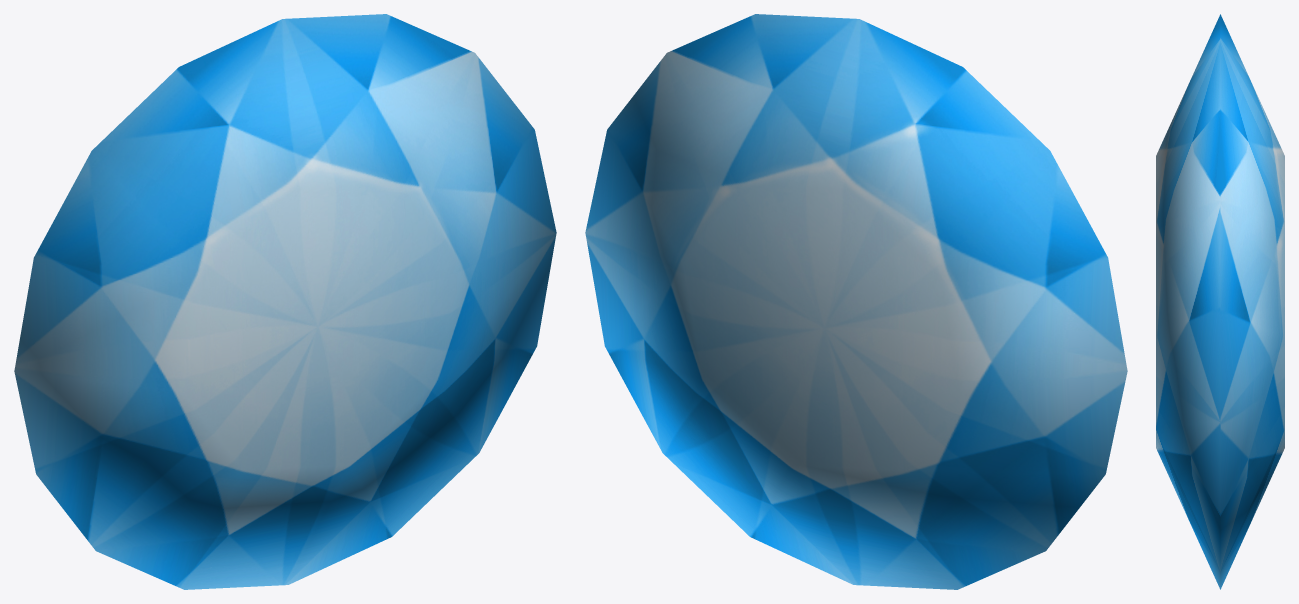
The model's file is Gem-Round.fbx.
The picture shows the model from 3 angles, left to right: view 1: azimuth 30°, elevation 25°; view 2: azimuth 150°, elevation 25°; view 3: azimuth 270°, elevation 25°; orthographic projection. The views are drawn at different scales.
Parts seen in each view (by area): view 1: Gem-Round; view 2: Gem-Round; view 3: Gem-Round.
Part boxes in pixels (left/top/right/bottom): Gem-Round: left=14, top=14, right=556, bottom=589; Gem-Round: left=585, top=14, right=1127, bottom=589; Gem-Round: left=1156, top=14, right=1284, bottom=589.
Bounding box in the file's own units: 1.95 × 1.95 × 0.4361.
